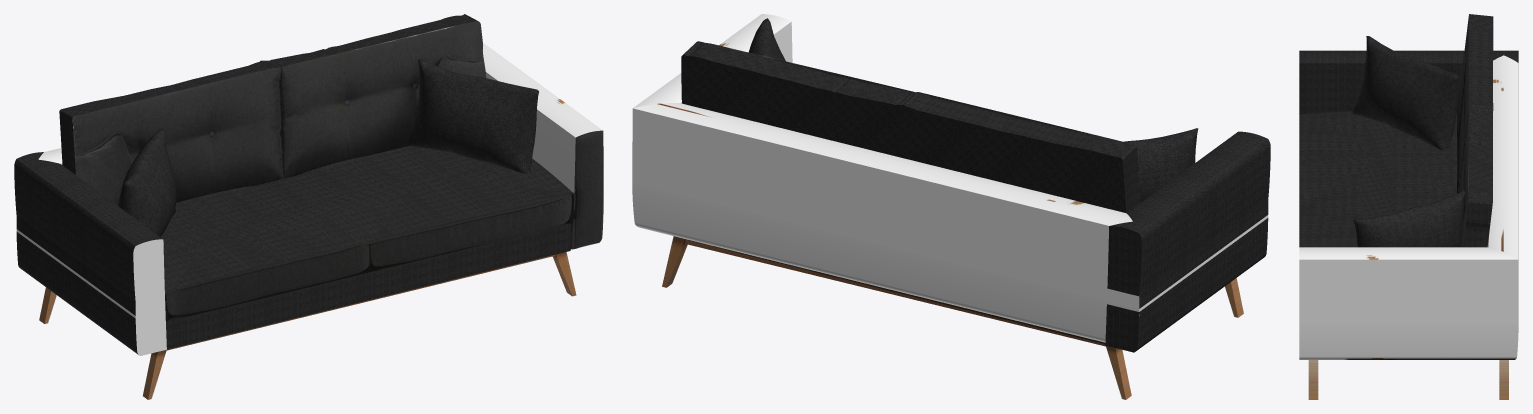
File: blackSofa.fbx
The picture shows the model from 3 angles, left to right: view 1: azimuth 30°, elevation 25°; view 2: azimuth 150°, elevation 25°; view 3: azimuth 270°, elevation 25°; orthographic projection. The views are drawn at different scales.
Parts seen in each view (by area): view 1: Group1, Group4, Rectangle4_1, Rectangle4_2, Group2; view 2: Group1, Group4, Group3, Rectangle4_2, Rectangle4_1; view 3: Group1, Rectangle4_2, Group4, Rectangle4_1, Group2, Group3.
Boxes of the visible parts, bbox=[...] form: Group1: bbox=[14, 43, 603, 355]; Group4: bbox=[59, 14, 486, 205]; Rectangle4_1: bbox=[408, 59, 538, 173]; Rectangle4_2: bbox=[118, 128, 176, 236]; Group2: bbox=[143, 252, 576, 399]; Group1: bbox=[632, 14, 1270, 352]; Group4: bbox=[681, 41, 1140, 213]; Group3: bbox=[662, 236, 1131, 399]; Rectangle4_2: bbox=[1124, 128, 1198, 202]; Rectangle4_1: bbox=[748, 18, 785, 61]; Group1: bbox=[1299, 50, 1518, 359]; Rectangle4_2: bbox=[1351, 36, 1457, 150]; Group4: bbox=[1457, 14, 1493, 247]; Rectangle4_1: bbox=[1353, 190, 1465, 247]; Group2: bbox=[1308, 360, 1318, 399]; Group3: bbox=[1499, 360, 1508, 399].
Size of the model in its own units: 205 by 90.13 by 89.85.
